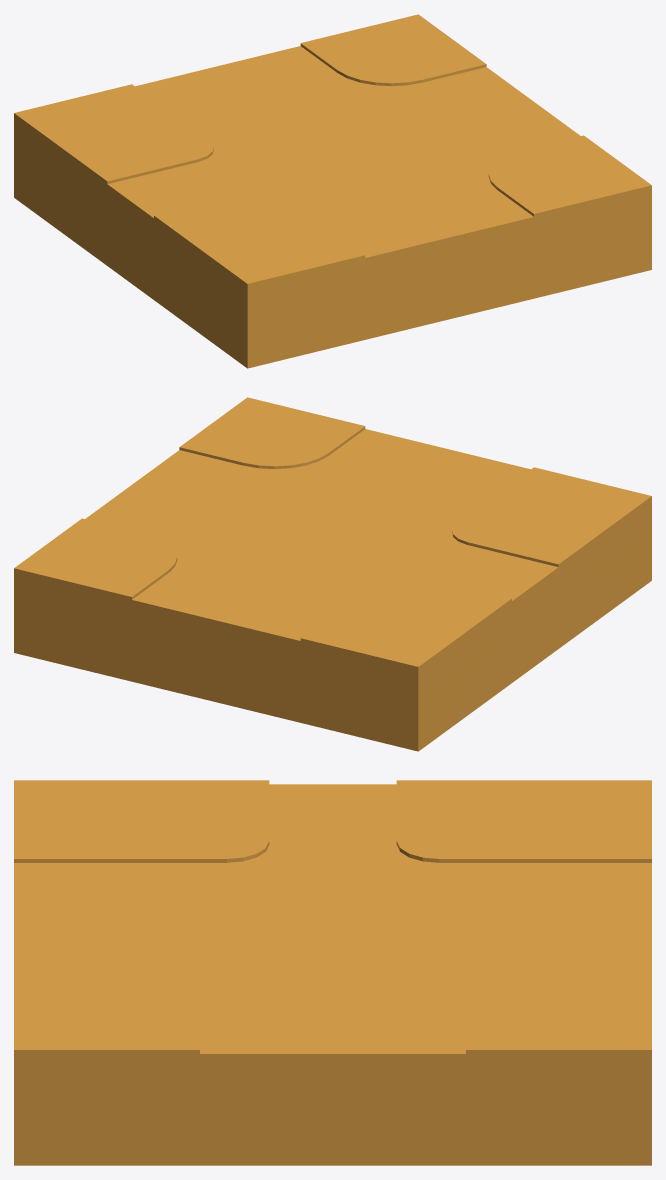
File: tile-mainroad-road-intersection.glb
The picture shows the model from 3 angles, top to bottom: view 1: azimuth 30°, elevation 25°; view 2: azimuth 150°, elevation 25°; view 3: azimuth 270°, elevation 25°; orthographic projection. The views are drawn at different scales.
Parts seen in each view (by area): view 1: tile-mainroad-road-intersection; view 2: tile-mainroad-road-intersection; view 3: tile-mainroad-road-intersection.
Boxes of the visible parts, x1=… form: tile-mainroad-road-intersection: x1=14, y1=14, x2=651, y2=368; tile-mainroad-road-intersection: x1=14, y1=397, x2=651, y2=751; tile-mainroad-road-intersection: x1=14, y1=780, x2=651, y2=1165.
Bounding box in the file's own units: 30 × 6 × 30.
